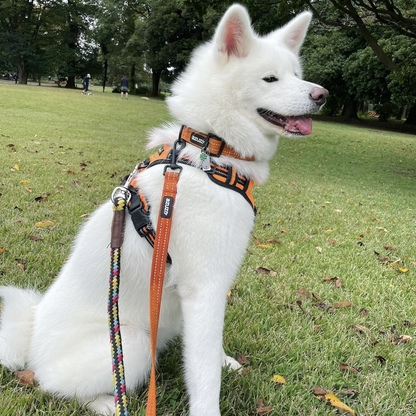akita: (1, 1, 337, 415)
